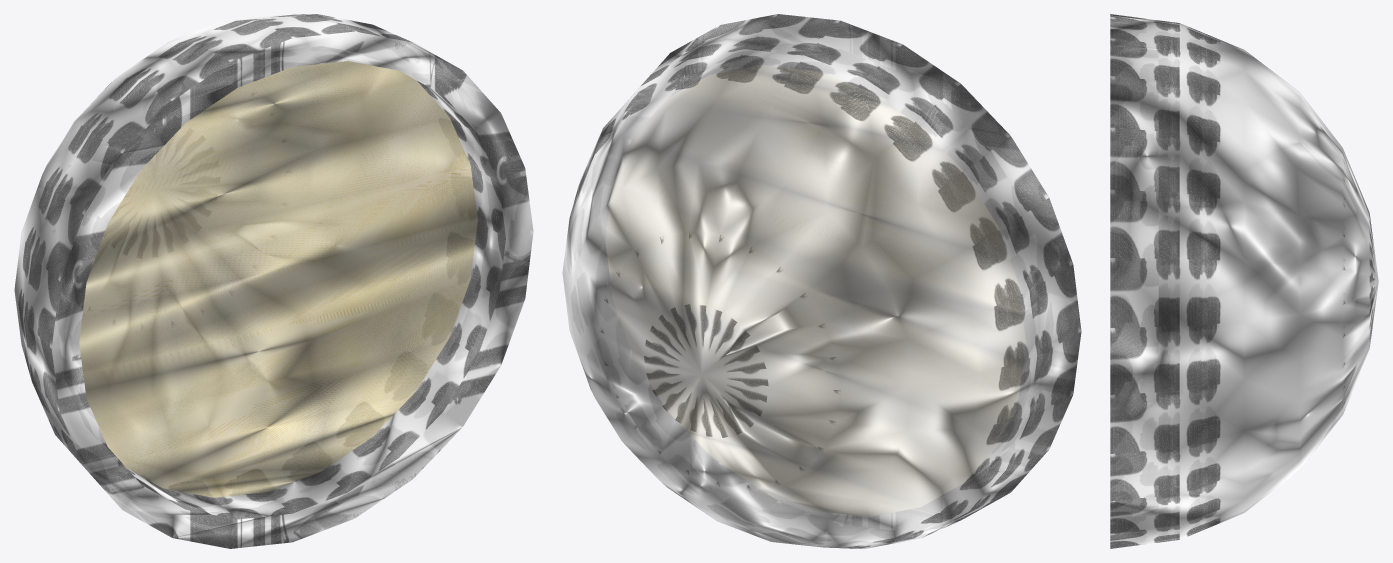
File: model_align.obj
3 views of the same model, side by side, from view 1: azimuth 30°, elevation 25°; view 2: azimuth 150°, elevation 25°; view 3: azimuth 270°, elevation 25° (orthographic). The views are drawn at different scales.
Bounding box in the file's own units: 0.1383 × 0.1383 × 0.0691.
